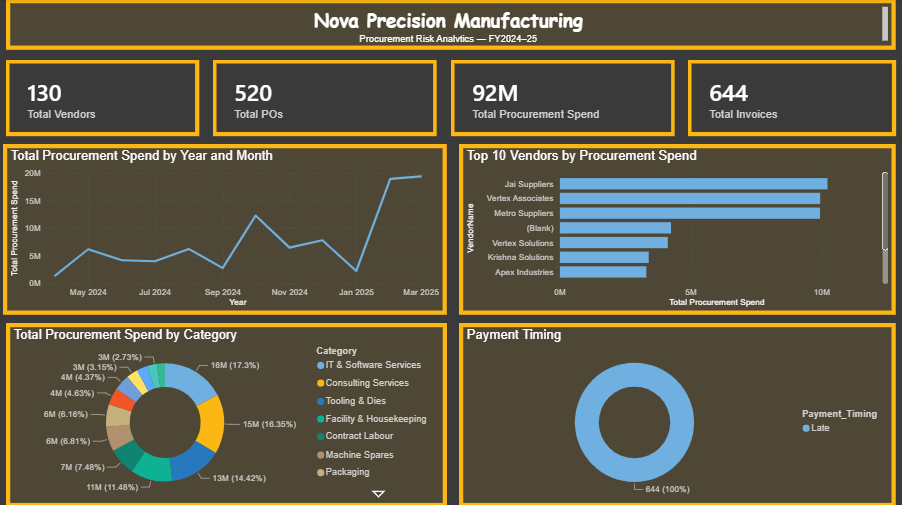

The page's visual inventory and layout, read from the dashboard file:
{"tool":"powerbi","page":{"name":"Executive Overview","canvas":[1280,720],"ordinal":0},"visuals":[{"type":"cardVisual","fields":{"Data":["Employees_Approvers_Cleaned.Total Vendors"]},"box":[9.9,86.5,273.5,107.7],"z":0},{"type":"cardVisual","fields":{"Data":["Employees_Approvers_Cleaned.Total POs"]},"box":[303.3,86.5,317.5,107.7],"z":1000},{"type":"cardVisual","fields":{"Data":["Employees_Approvers_Cleaned.Total Procurement Spend"]},"box":[640.6,86.5,317.5,107.7],"z":2000},{"type":"cardVisual","fields":{"Data":["Employees_Approvers_Cleaned.Total Invoices"]},"box":[976.5,86.5,294.8,107.7],"z":3000},{"type":"lineChart","fields":{"Y":["Employees_Approvers_Cleaned.Total Procurement Spend"],"Category":["Invoices_Payments_Cleaned.InvoiceDate.Variation.Date Hierarchy.Year","Invoices_Payments_Cleaned.InvoiceDate.Variation.Date Hierarchy.Month"]},"box":[5.7,205.5,629.3,242.4],"z":4000},{"type":"clusteredBarChart","title":"Top 10 Vendors by Procurement Spend","fields":{"Y":["Employees_Approvers_Cleaned.Total Procurement Spend"],"Category":["Vendor_Master_Cleaned.VendorName"]},"box":[652,205.5,619.4,242.4],"z":5000},{"type":"donutChart","fields":{"Category":["Vendor_Master_Cleaned.Category"],"Y":["Employees_Approvers_Cleaned.Total Procurement Spend"]},"box":[9.9,459.2,625,260.8],"z":6000},{"type":"donutChart","title":" Payment Timing","fields":{"Category":["Invoices_Payments_Cleaned.Payment_Timing"],"Y":["CountNonNull(Invoices_Payments_Cleaned.InvoiceID)"]},"box":[652,459.2,619.4,260.8],"z":7000},{"type":"textbox","box":[9.9,0,1261.4,72.3],"z":8000}]}

Visuals, with their boxes in screenshot pixels (x1, y1, x2, y2), scaled from the page's 1280x720 canvas onto the 902x505 screenshot:
cardVisual - Employees_Approvers_Cleaned.Total Vendors: select_region(7, 61, 200, 136)
cardVisual - Employees_Approvers_Cleaned.Total POs: select_region(214, 61, 437, 136)
cardVisual - Employees_Approvers_Cleaned.Total Procurement Spend: select_region(451, 61, 675, 136)
cardVisual - Employees_Approvers_Cleaned.Total Invoices: select_region(688, 61, 896, 136)
lineChart - Employees_Approvers_Cleaned.Total Procurement Spend x Invoices_Payments_Cleaned.InvoiceDate.Variation.Date Hierarchy.Year: select_region(4, 144, 447, 314)
"Top 10 Vendors by Procurement Spend" clusteredBarChart: select_region(459, 144, 896, 314)
donutChart - Vendor_Master_Cleaned.Category x Employees_Approvers_Cleaned.Total Procurement Spend: select_region(7, 322, 447, 504)
" Payment Timing" donutChart: select_region(459, 322, 896, 504)
textbox: select_region(7, 0, 896, 51)
